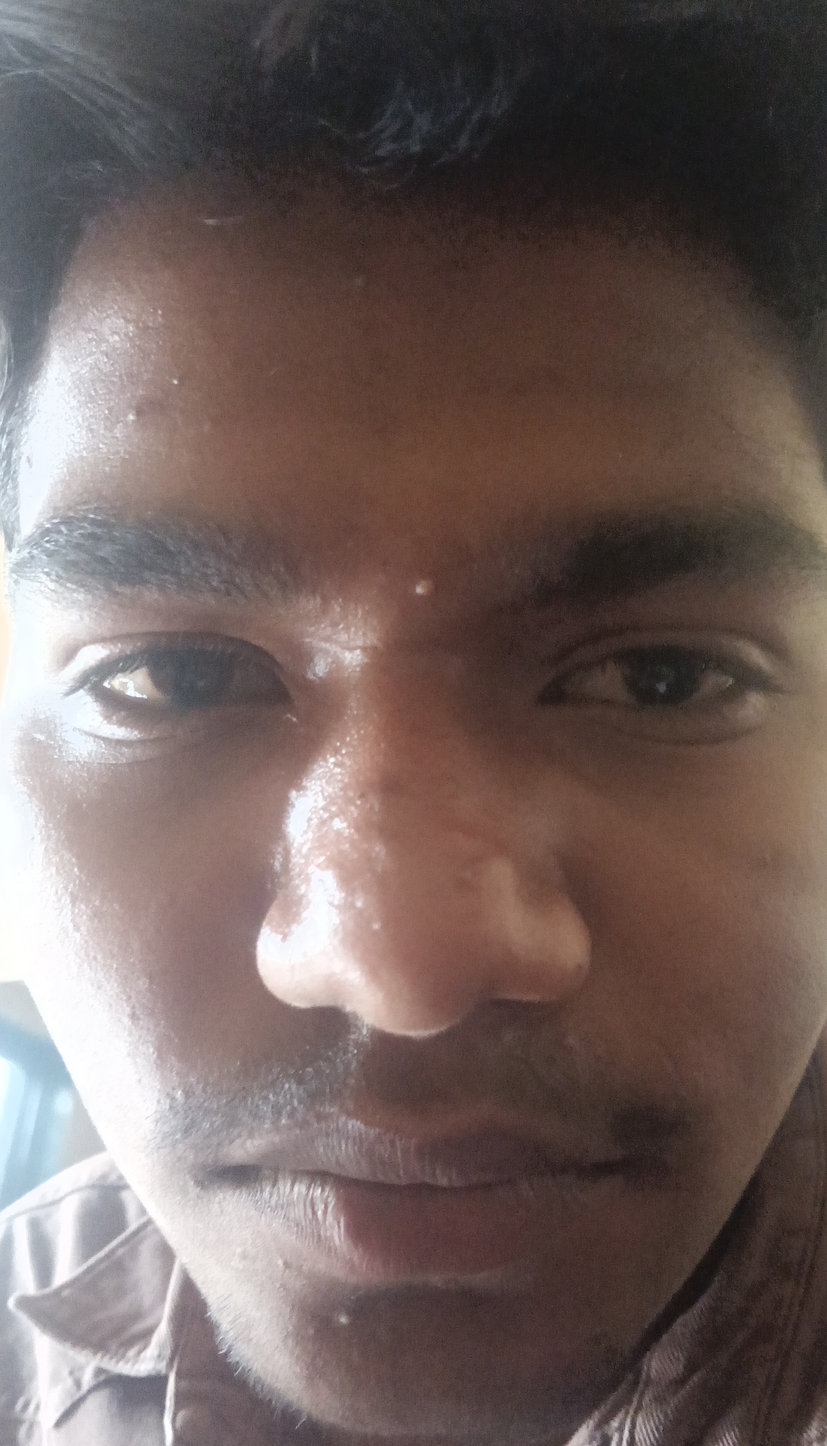papule: (338, 877, 410, 975), (109, 388, 186, 455), (329, 796, 374, 863)
pustule: (314, 1294, 386, 1345), (391, 569, 462, 617)
